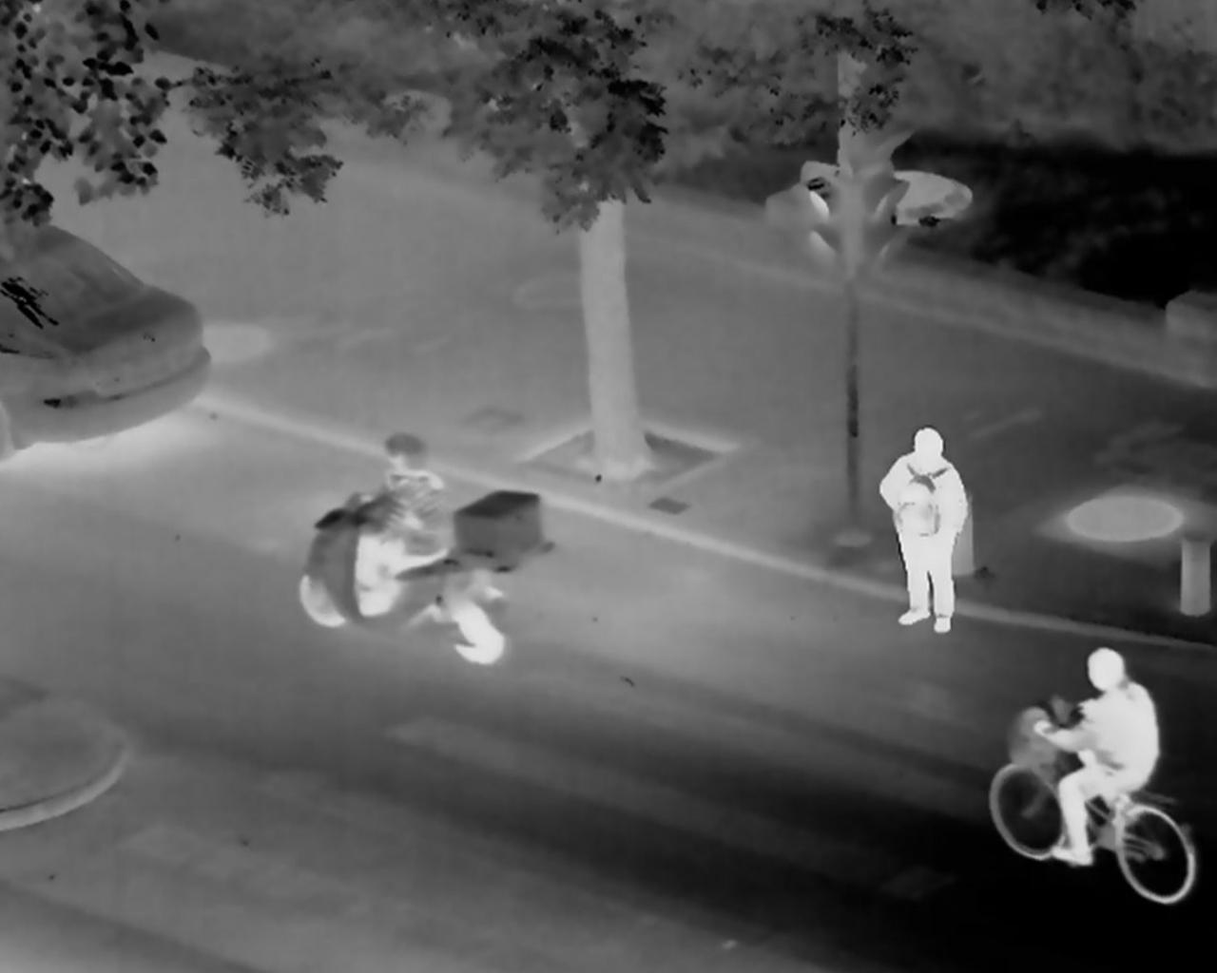person: (1053, 639, 1164, 892), (354, 432, 465, 617), (881, 426, 971, 644)
